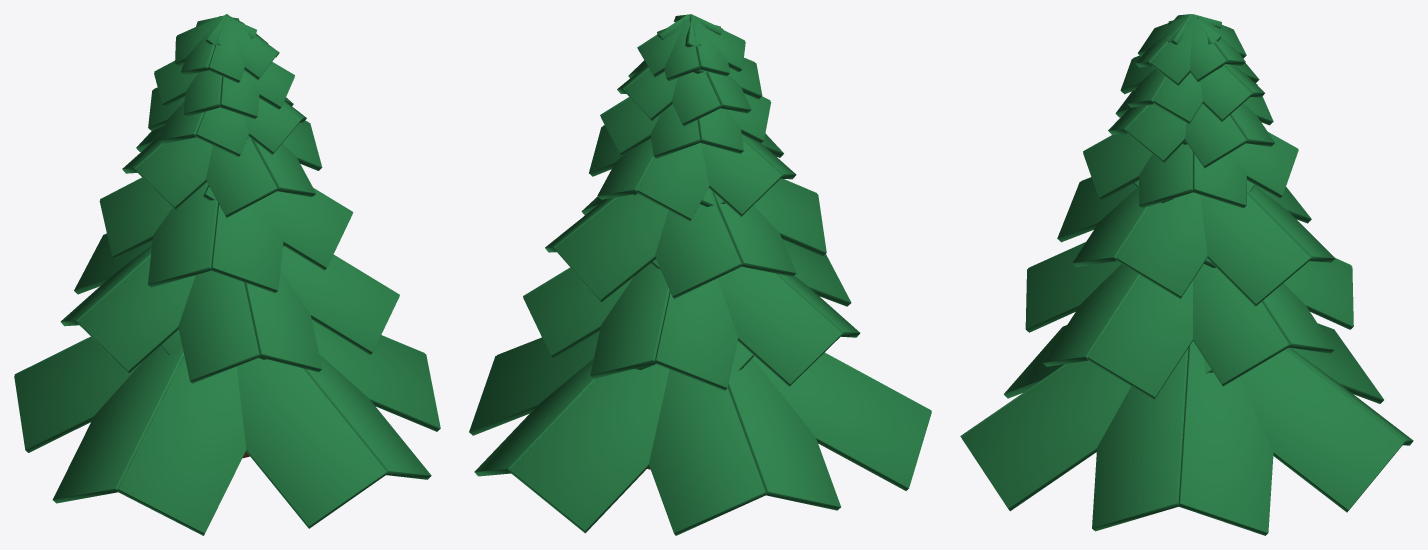
File: Nature_QuentyPine_CS.glb
3 views of the same model, side by side, from view 1: azimuth 30°, elevation 25°; view 2: azimuth 150°, elevation 25°; view 3: azimuth 270°, elevation 25° (orthographic). The views are drawn at different scales.
Visible parts, largest first — view 1: Nature_QuentyPine_CS; view 2: Nature_QuentyPine_CS; view 3: Nature_QuentyPine_CS.
Boxes of the visible parts, box(x1,y1,x2,y2) form: Nature_QuentyPine_CS: box(14, 14, 440, 535); Nature_QuentyPine_CS: box(469, 14, 931, 535); Nature_QuentyPine_CS: box(960, 14, 1413, 535).
Bounding box in the file's own units: 8.09 × 8.64 × 8.02.
